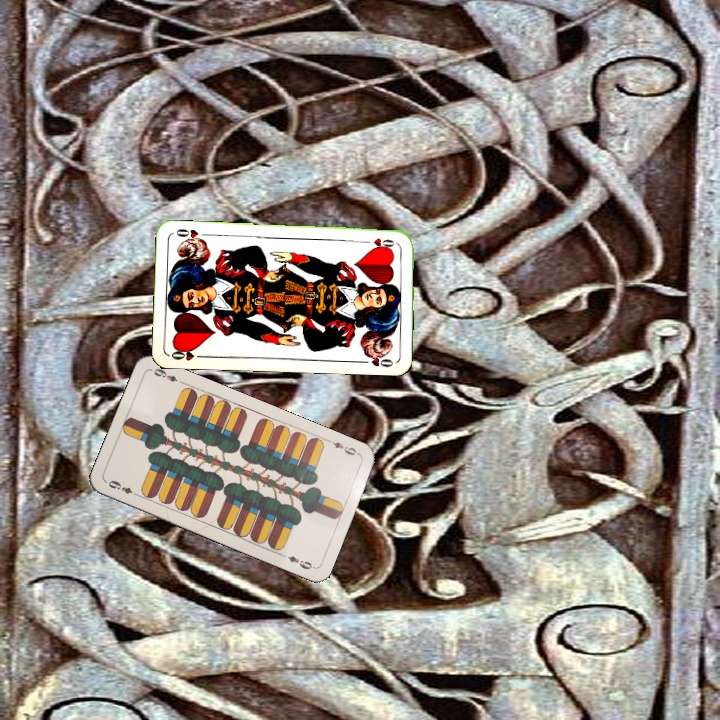E9: (103, 476, 141, 499), (323, 436, 362, 458)
HO: (167, 344, 207, 363), (359, 234, 399, 250)
